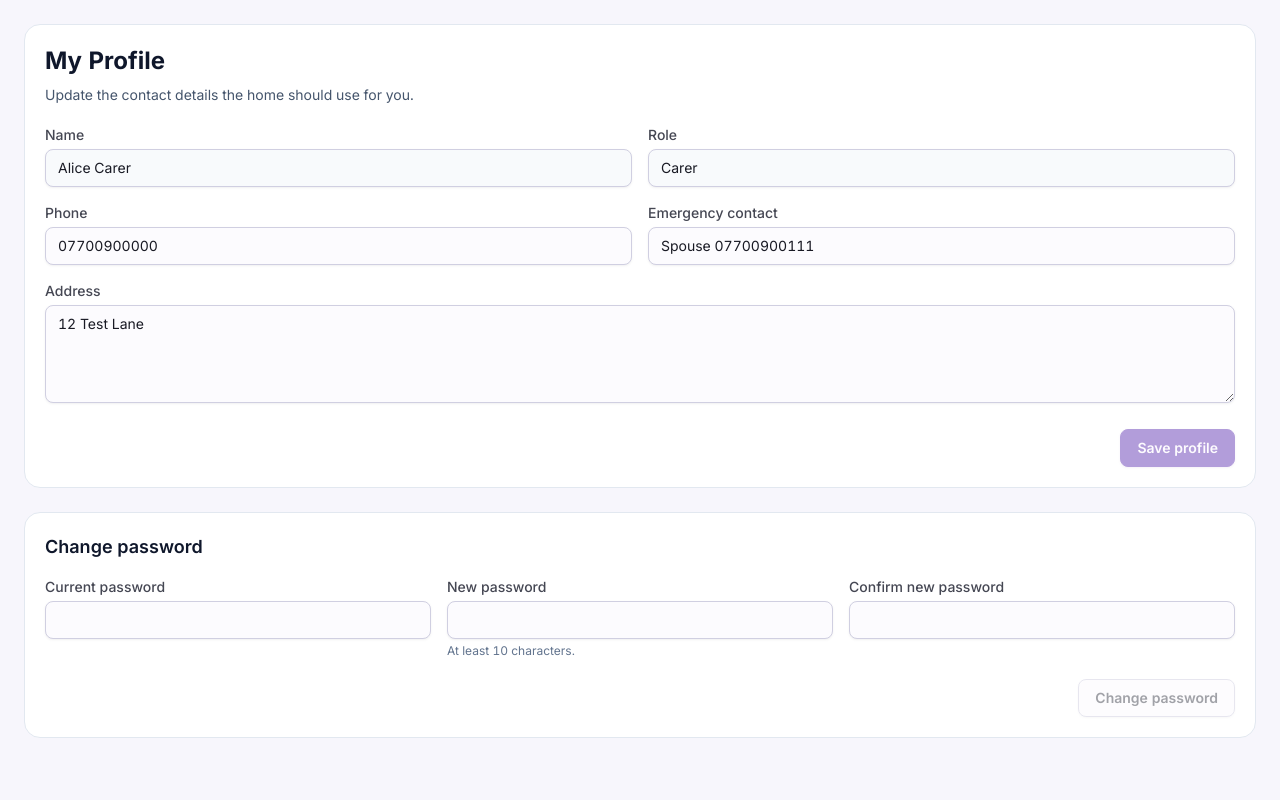
Test: MyProfile › loads the profile and only enables saving after a profile change
The image size is (1280, 800).
Expected: the field showing "Alice Carer" is shown, [45,149,632,187]
Expected: the button "Save profile" is disabled, [1120,429,1235,467]
Replace the text in the field labelled "Phone" with " 07700900999 " at (338, 246), box [45,227,632,265]
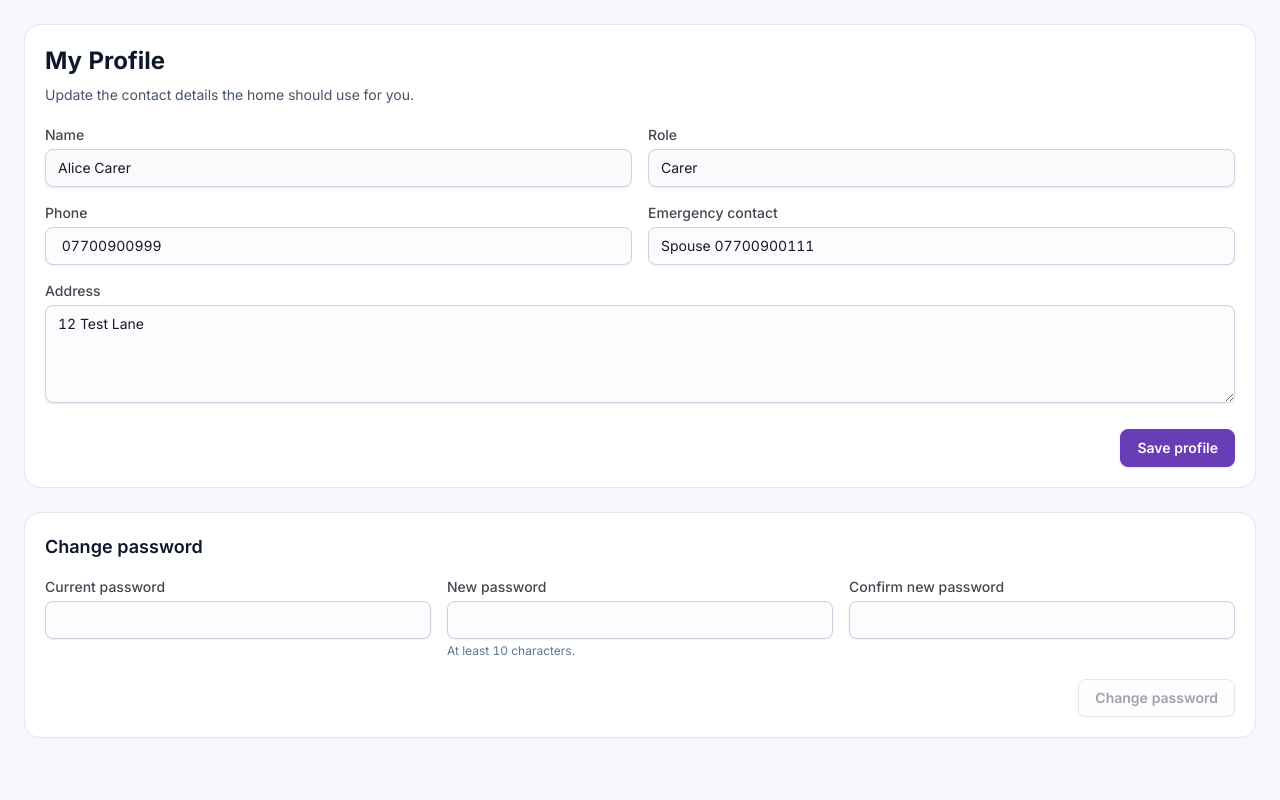
Click the button "Save profile" at (1178, 448), box [1120,429,1235,467]
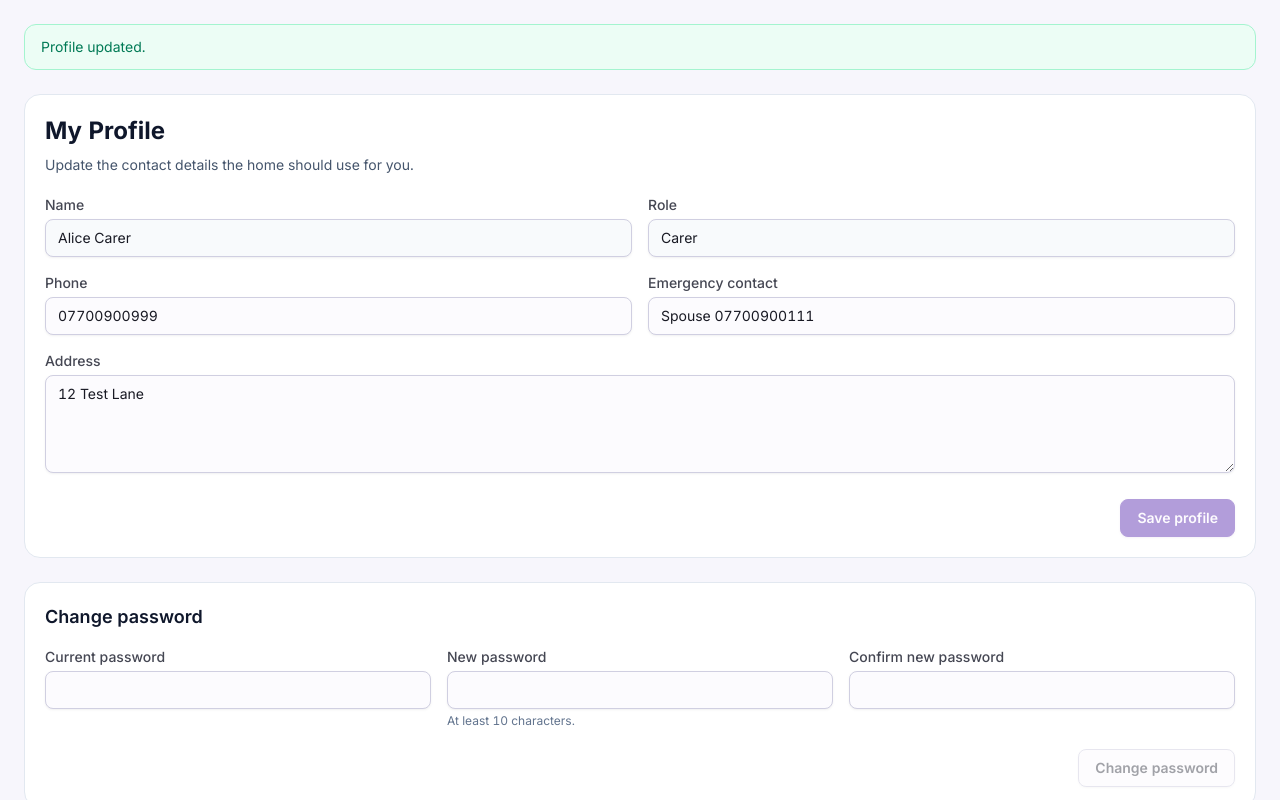
Result: the text "Profile updated." is shown at [24,24,1256,70]
